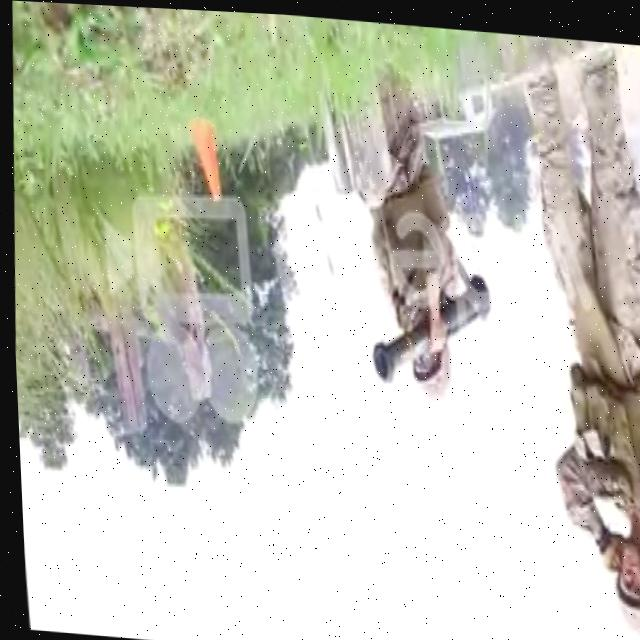rocket: (362, 255, 494, 383)
